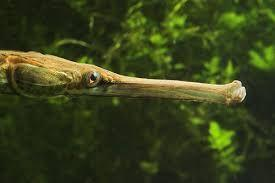Long-Snouted Pipefish: (1, 40, 247, 117)
